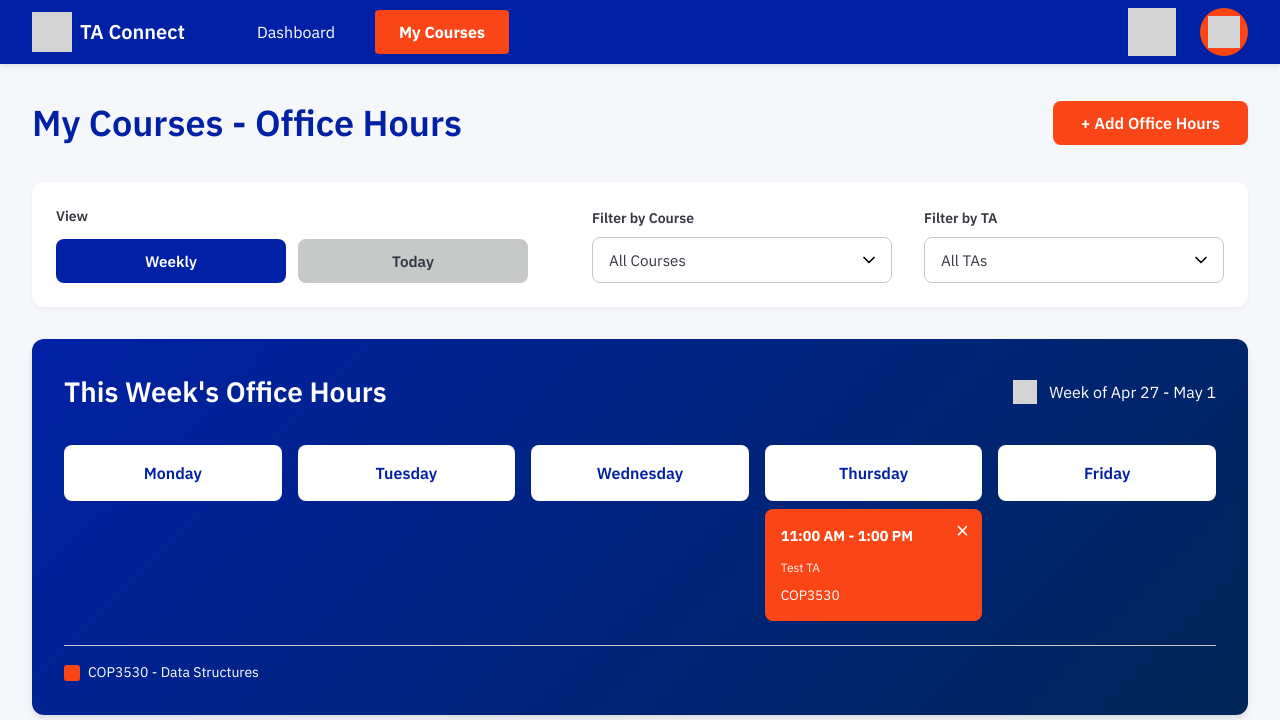
Test: MyCoursesPage › opens Add Office Hours modal when clicking add button
Check: the heading "This Week's Office Hours" is shown, box [64, 371, 387, 413]
What coordinates should you click on to do the following:
click the button "+ Add Office Hours"
I would click on:
 (1150, 123)
Its box is [1053, 101, 1248, 145].
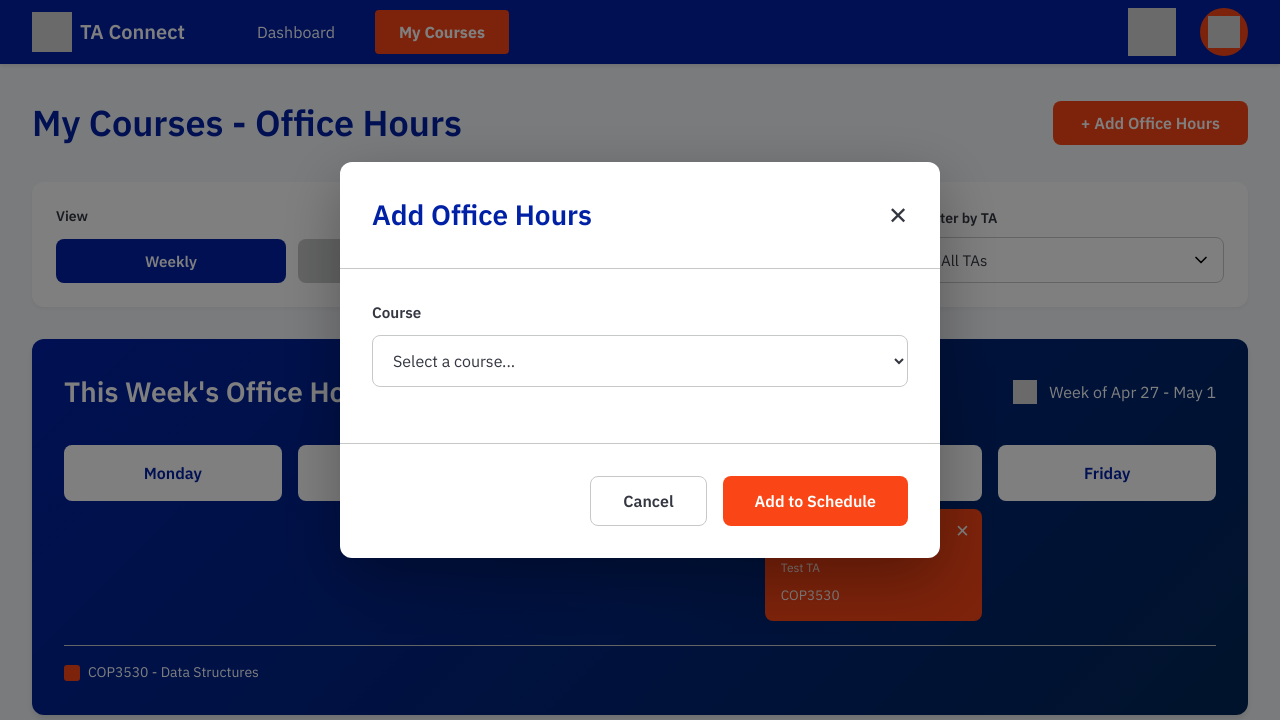
Check: the text "Course" is shown, box [372, 302, 421, 322]
